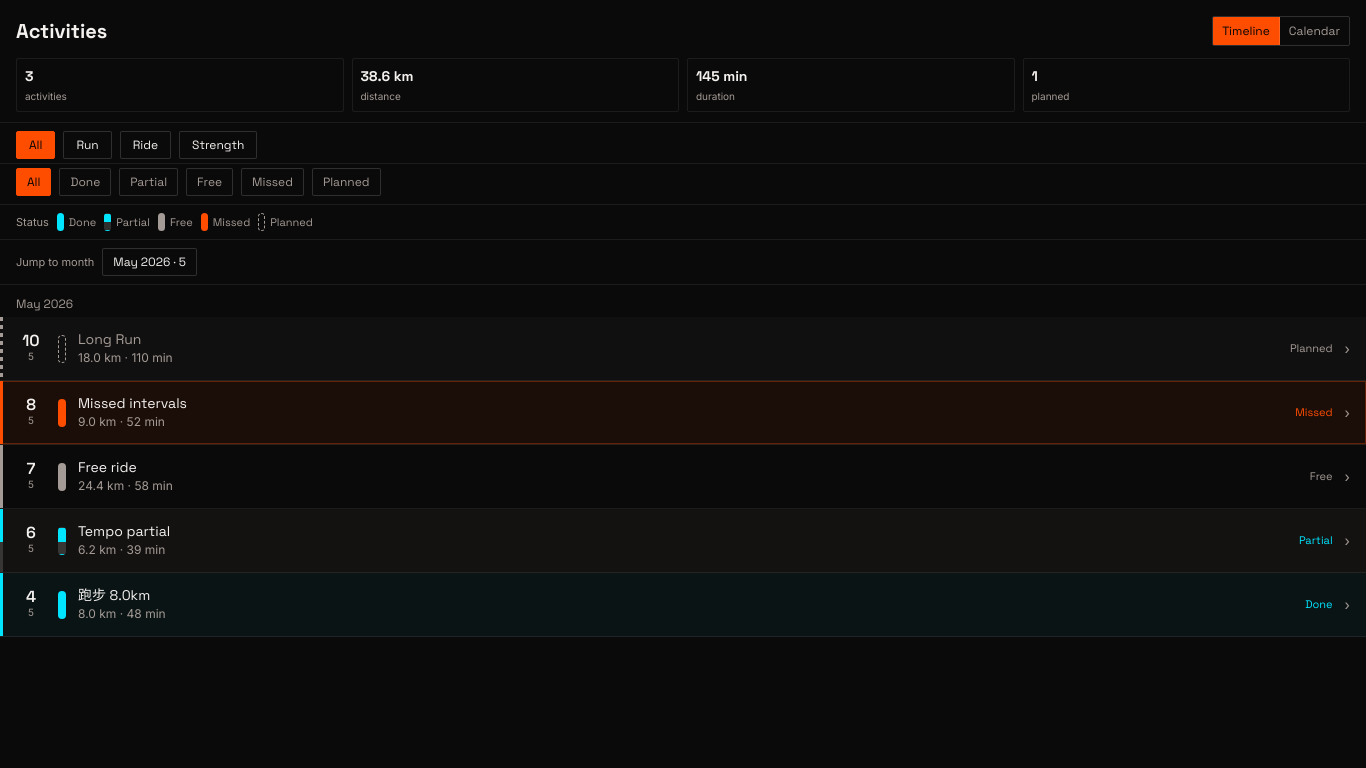
Test: ActivitiesPage › filters by status
This screenshot has width=1366, height=768.
Click the button with aria-label "Status filter: Done" at coordinates (85, 182), box [60, 168, 111, 196]
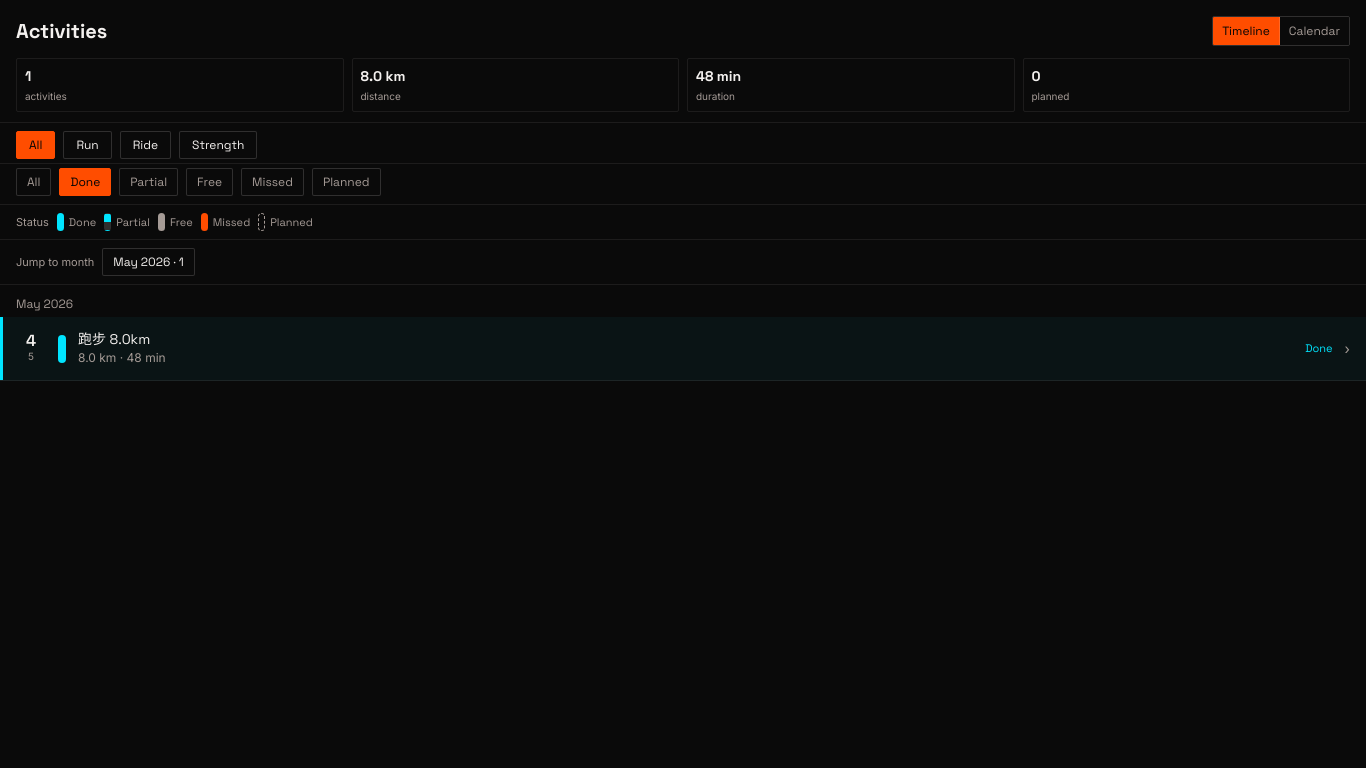
Expected: the text "跑步 8.0km" is shown, [78, 330, 150, 348]
Expected: the link "Tempo partial" is gone
Expected: the link "Long Run" is gone
